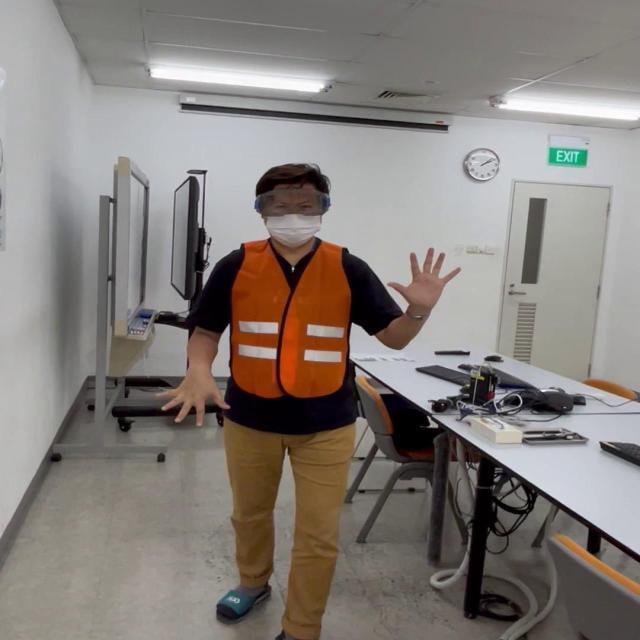bare_hand: (384, 244, 462, 310), (157, 370, 232, 426)
